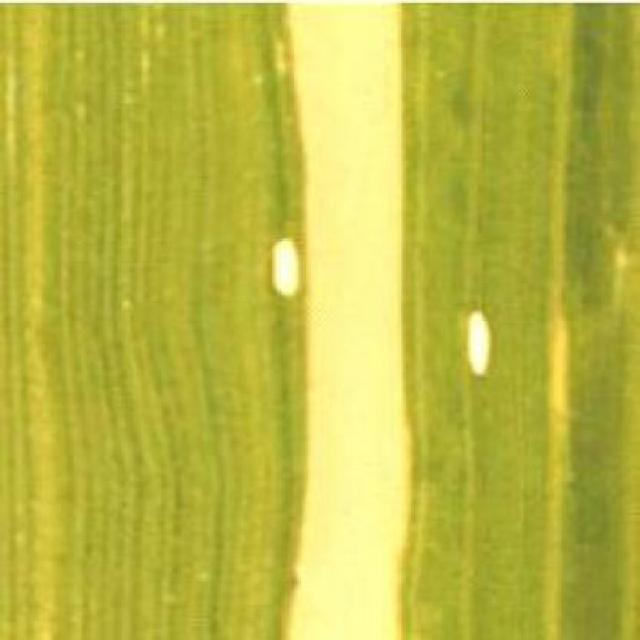whorl-maggot: (463, 302, 497, 383), (271, 232, 306, 305)
